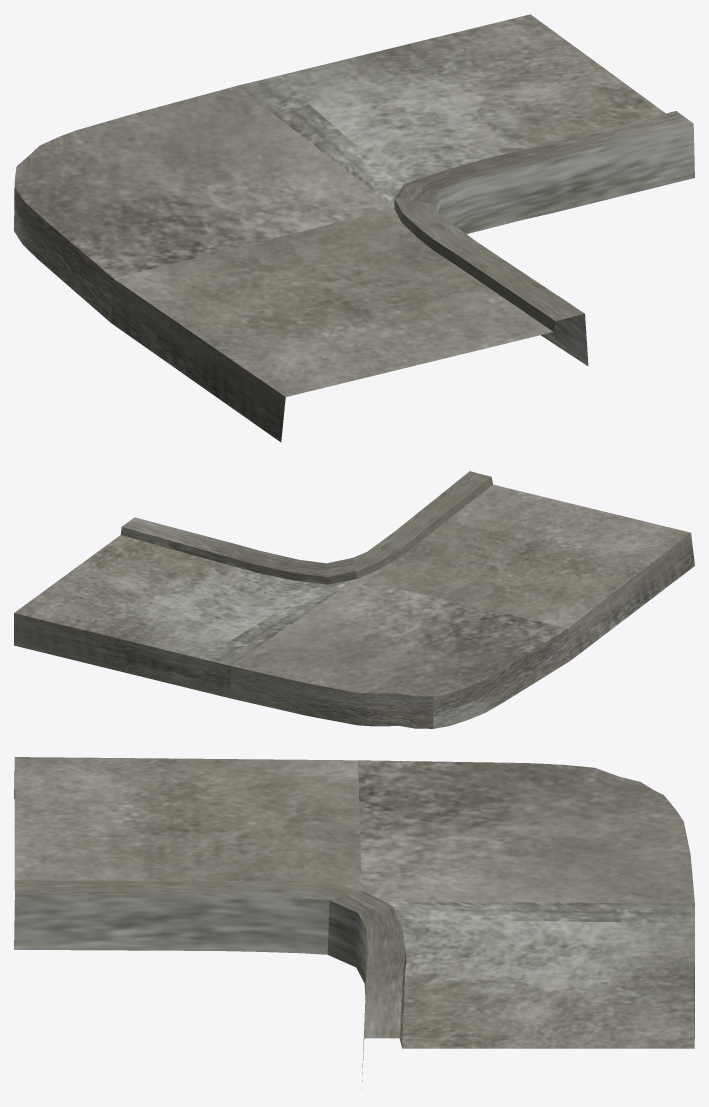
File: sidewalk_bend.fbx
3 views of the same model, one above another, from view 1: azimuth 30°, elevation 25°; view 2: azimuth 150°, elevation 25°; view 3: azimuth 270°, elevation 25° (orthographic). The views are drawn at different scales.
Parts seen in each view (by area): view 1: polySurface4; view 2: polySurface4; view 3: polySurface4.
Part boxes in pixels (x1,y1,x2,y2): polySurface4: (14,14,694,442); polySurface4: (14,471,694,728); polySurface4: (14,757,694,1088).
Size of the model in its own units: 27.83 by 2.74 by 27.67.
